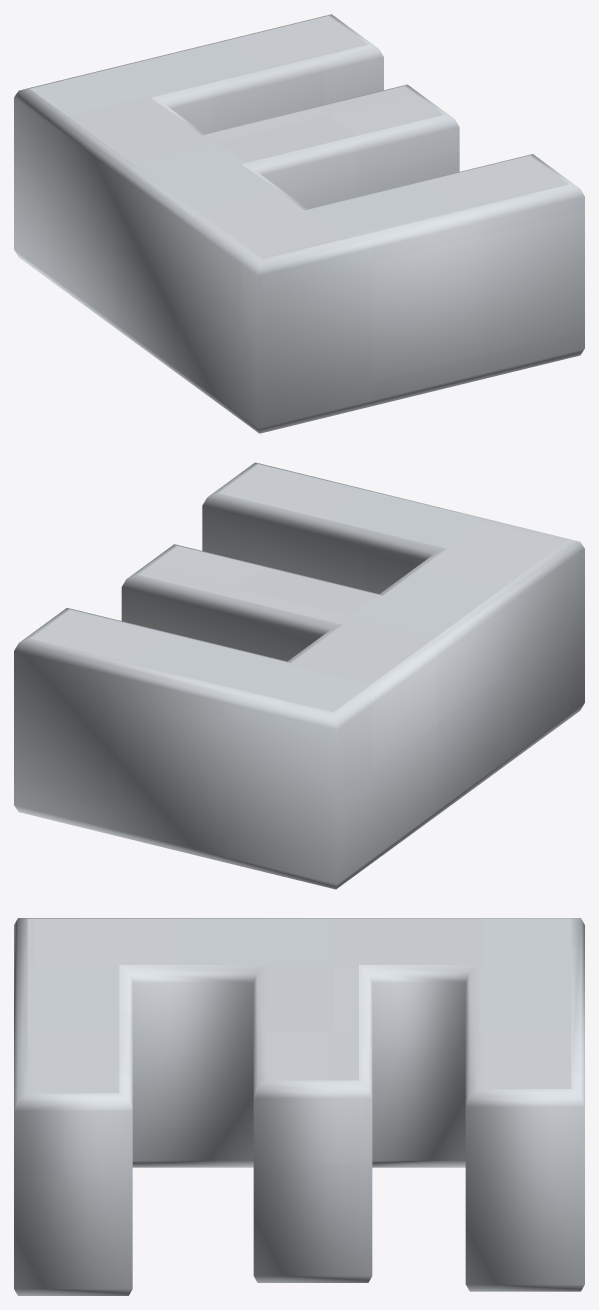
File: title_letter_11.obj
3 views of the same model, one above another, from view 1: azimuth 30°, elevation 25°; view 2: azimuth 150°, elevation 25°; view 3: azimuth 270°, elevation 25° (orthographic). The views are drawn at different scales.
Visible parts, largest first — view 1: TitleLetter12_E; view 2: TitleLetter12_E; view 3: TitleLetter12_E.
Part boxes in pixels (x1=…): TitleLetter12_E: x1=14, y1=14, x2=584, y2=433; TitleLetter12_E: x1=14, y1=462, x2=584, y2=889; TitleLetter12_E: x1=14, y1=918, x2=584, y2=1295.
Bounding box in the file's own units: 0.8649 × 0.4376 × 1.12.
Materials: 1 (1 with a texture image).
